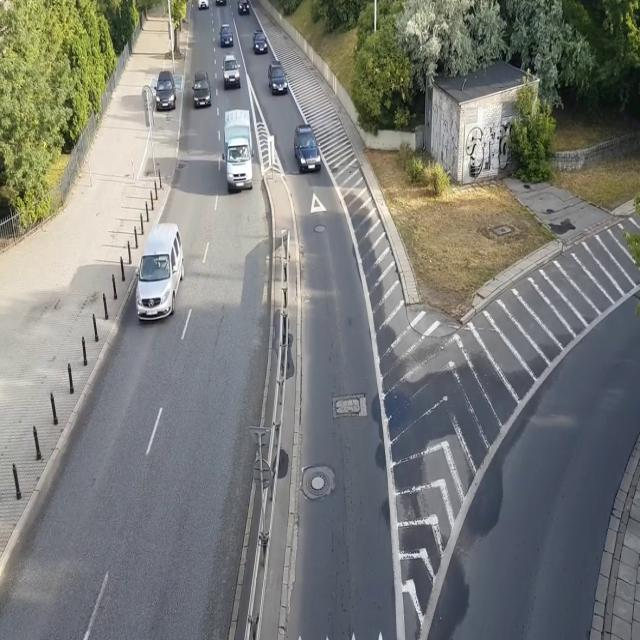car: (294, 124, 321, 173), (154, 70, 176, 111), (191, 71, 212, 109), (268, 60, 288, 96), (221, 54, 241, 90), (252, 29, 268, 54), (219, 24, 234, 48), (237, 0, 250, 14), (198, 0, 210, 10)
truck: (221, 110, 255, 192), (214, 0, 227, 6)
van: (134, 224, 184, 322)
